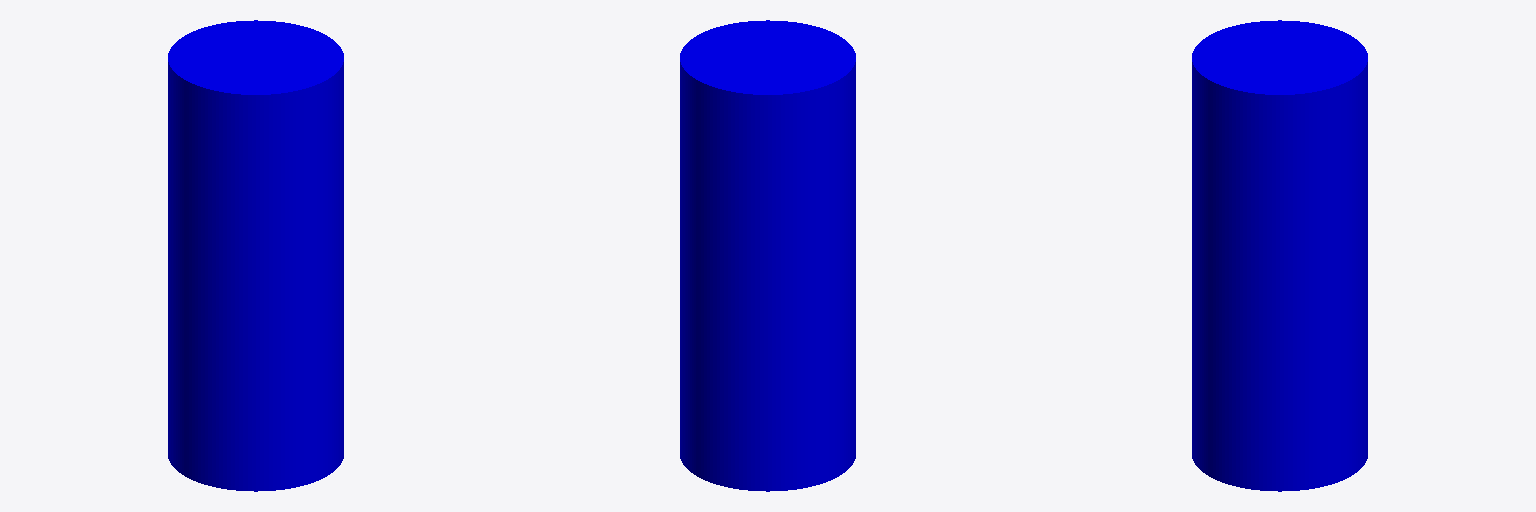
robot.urdf — board2_block3:
<?xml version="1.0"?>
<robot name="board2_block3">
    <link name="board2_block3">
        <visual>
            <origin xyz="0 0 0 " rpy=" 0 0 0"/>
            <geometry>
                <mesh filename="../meshes/SIMO_Board2_Block3.stl" scale="0.001 0.001 0.001"/>
            </geometry>
            <material name="red">
                <color rgba="0.0 0.0 1.0 1.0"/>
            </material>
        </visual>
        <collision>
            <origin xyz="0 0 0" rpy="0 0 0"/>
            <geometry>
                <mesh filename="../meshes/SIMO_Board2_Block3.stl" scale="0.001 0.001 0.001"/>
            </geometry>
        </collision>
    </link>
</robot>

--- Render facts (derived) ---
3 views of the same robot in one strip: view 1: azimuth 30°, elevation 25°; view 2: azimuth 150°, elevation 25°; view 3: azimuth 270°, elevation 25° (orthographic).
Robot: board2_block3 — 1 links, 0 joints (none); root link board2_block3; default pose: every joint at zero.
Visible links, largest first — view 1: board2_block3; view 2: board2_block3; view 3: board2_block3.
Boxes of the visible links, x1,y1,x2,y2 form: board2_block3: (168, 20, 343, 491); board2_block3: (680, 20, 855, 491); board2_block3: (1192, 20, 1367, 491).
Bounding box of the posed robot: 0.0403 × 0.0403 × 0.1 m (x, y, z).
1 mesh visuals loaded from 1 distinct referenced files (1 ASCII STL).
